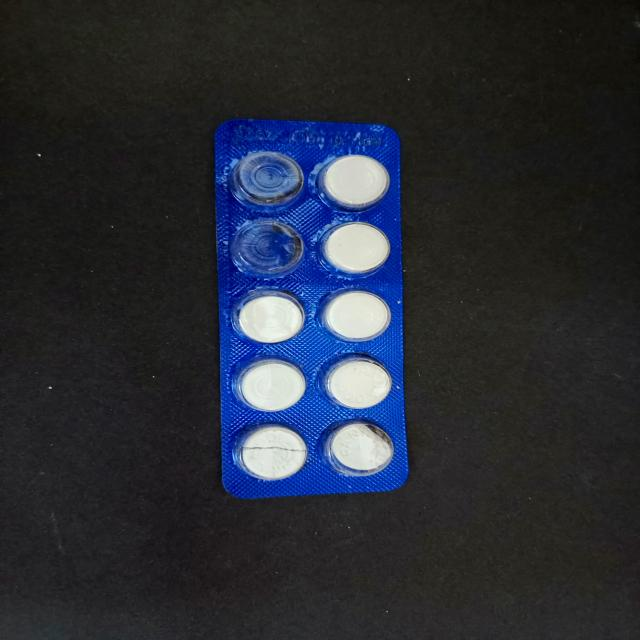defect: (229, 419, 311, 483), (228, 147, 308, 212), (228, 217, 308, 281), (321, 415, 399, 480)
